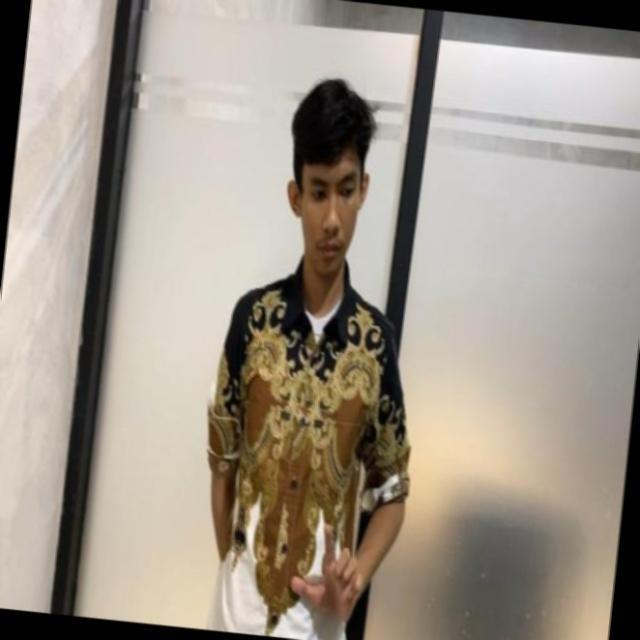L: (286, 514, 378, 637)
